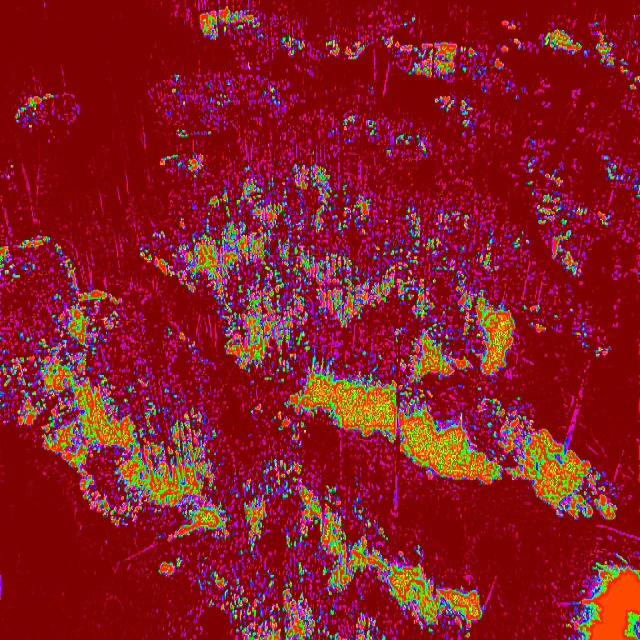fire: (143, 157, 518, 485), (164, 452, 390, 640), (0, 236, 144, 430), (40, 420, 216, 524), (498, 413, 618, 521), (532, 171, 620, 281), (390, 553, 485, 639), (370, 28, 491, 87), (564, 555, 640, 640), (198, 9, 304, 61), (540, 19, 622, 73), (14, 89, 90, 142)
